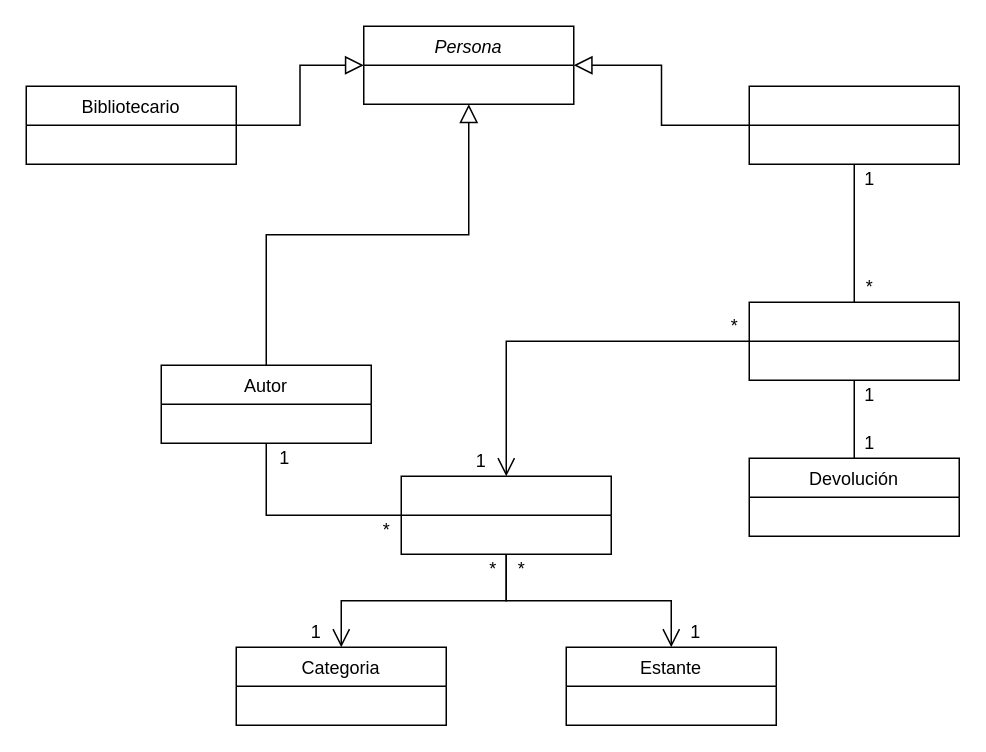
This 986x752 diagram has some shape labels left out. The box of each missing label's shape, as (x1, y1, x2, y2) in pixels:
Lector: (748, 85, 959, 164)
Libro: (400, 475, 611, 554)
Préstamo: (748, 301, 959, 380)
